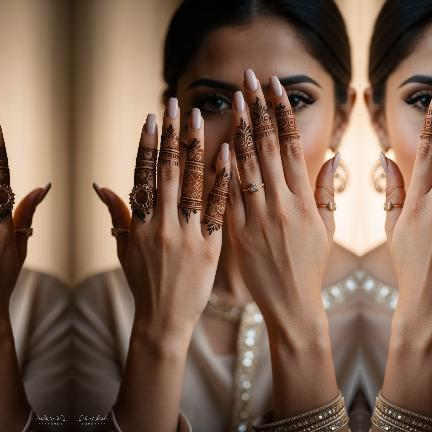Nail: (92, 183, 108, 206), (36, 183, 52, 206), (244, 69, 258, 91), (269, 75, 283, 96), (166, 97, 178, 119), (145, 113, 156, 135), (234, 91, 245, 112), (190, 108, 201, 129), (220, 143, 229, 162), (332, 151, 339, 174), (381, 151, 388, 174)
